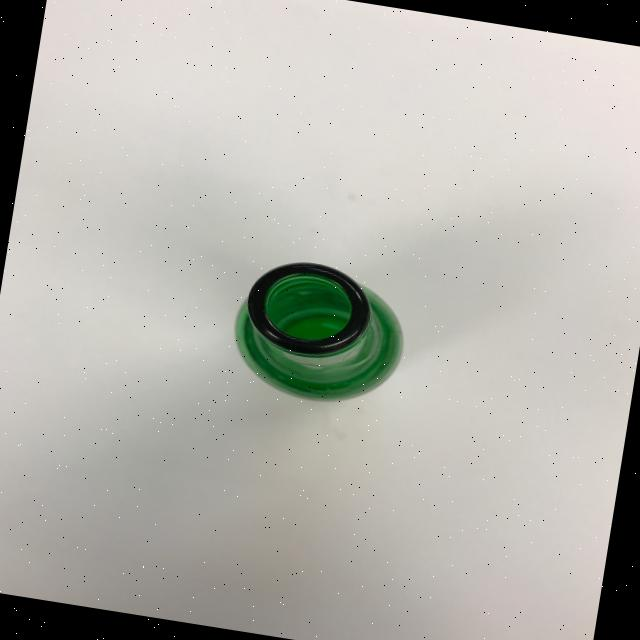glass: (223, 251, 414, 414)
